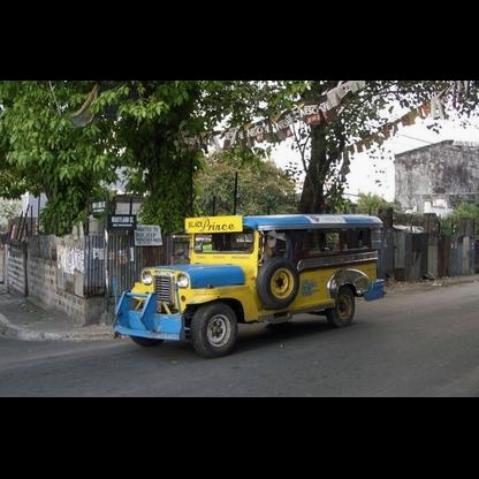jeepney: (117, 198, 392, 361)
